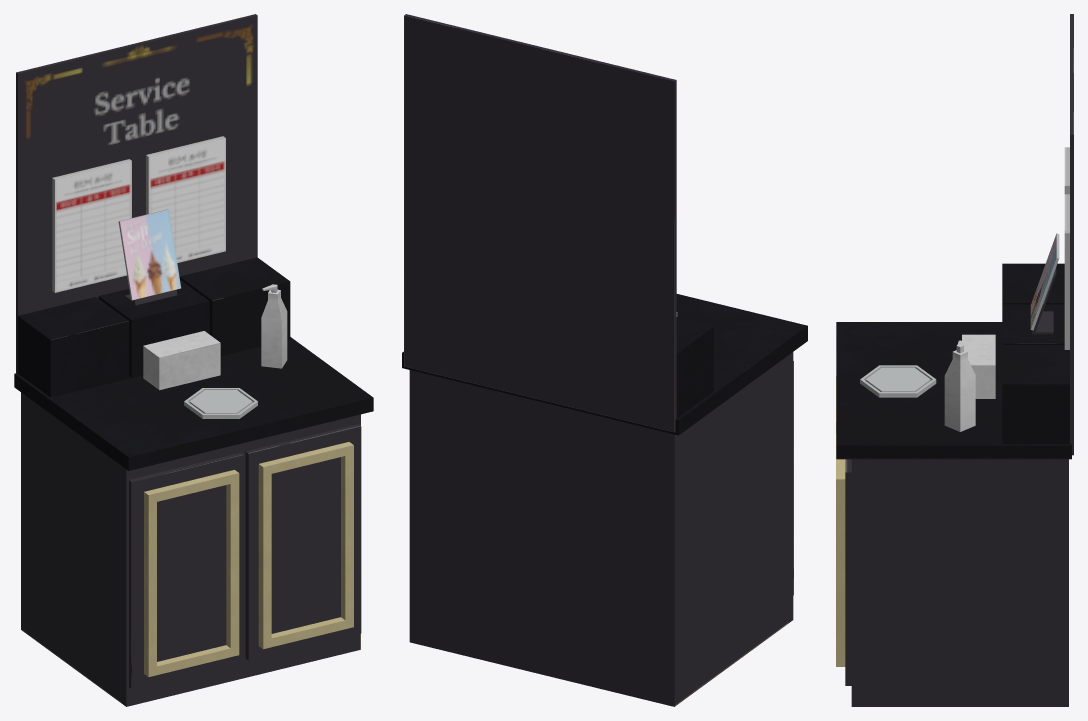
File: LC_3060_Service_table_LOD1.FBX
3 views of the same model, side by side, from view 1: azimuth 30°, elevation 25°; view 2: azimuth 150°, elevation 25°; view 3: azimuth 270°, elevation 25° (orthographic). The views are drawn at different scales.
Parts seen in each view (by area): view 1: LC_3060_Service_table_LOD1; view 2: LC_3060_Service_table_LOD1; view 3: LC_3060_Service_table_LOD1.
Boxes of the visible parts, x1,y1,x2,y2 form: LC_3060_Service_table_LOD1: (14,14,373,706); LC_3060_Service_table_LOD1: (402,14,807,706); LC_3060_Service_table_LOD1: (836,14,1073,706).
Size of the model in its own units: 94 by 204 by 76.61.
Materials: 1 (1 with a texture image).
